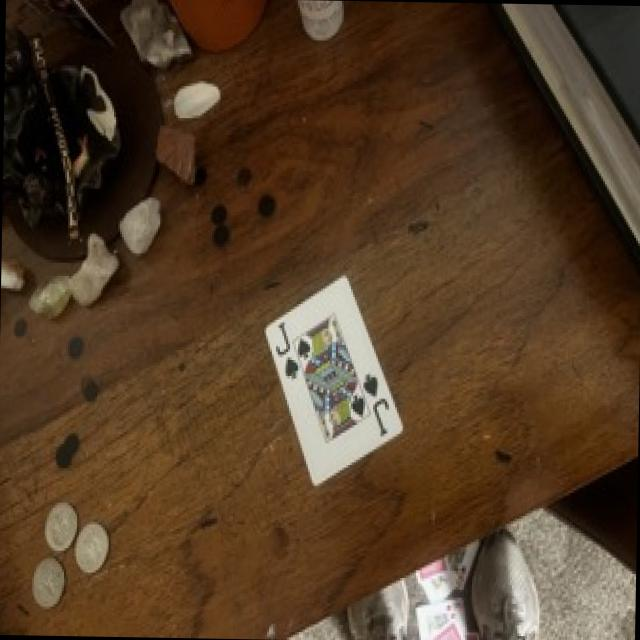Jack of spades: (266, 277, 402, 483)
